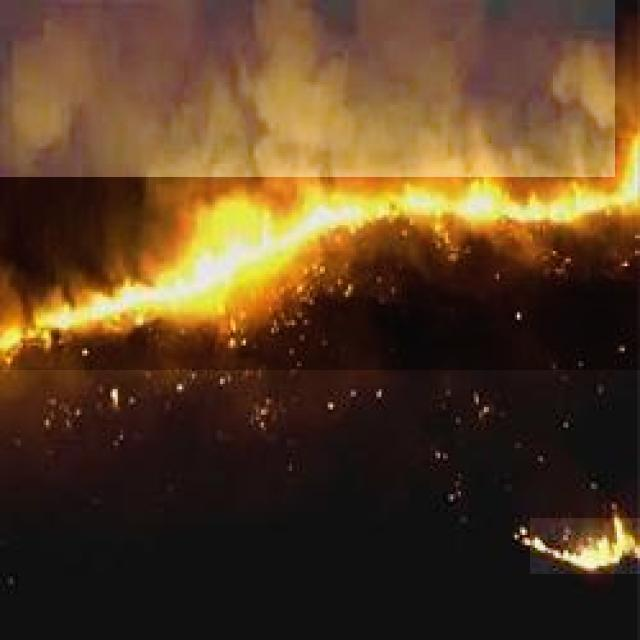Fire: (0, 138, 640, 370), (530, 518, 640, 574)
Smoke: (0, 0, 615, 177)
